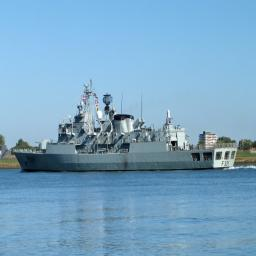Fragata: (11, 80, 239, 171)
